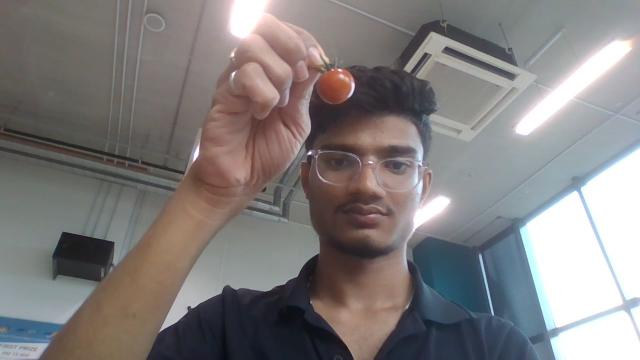Fully Grown: (314, 68, 357, 106), (316, 67, 356, 106)
